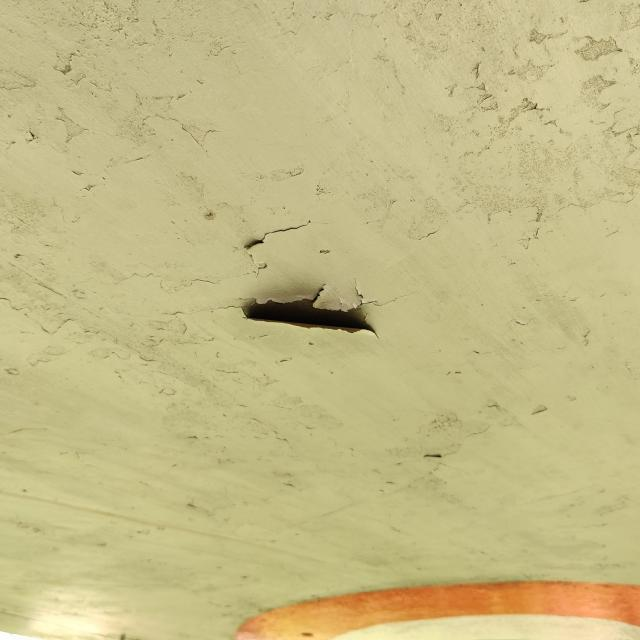Paint-off: (243, 299, 375, 332)
